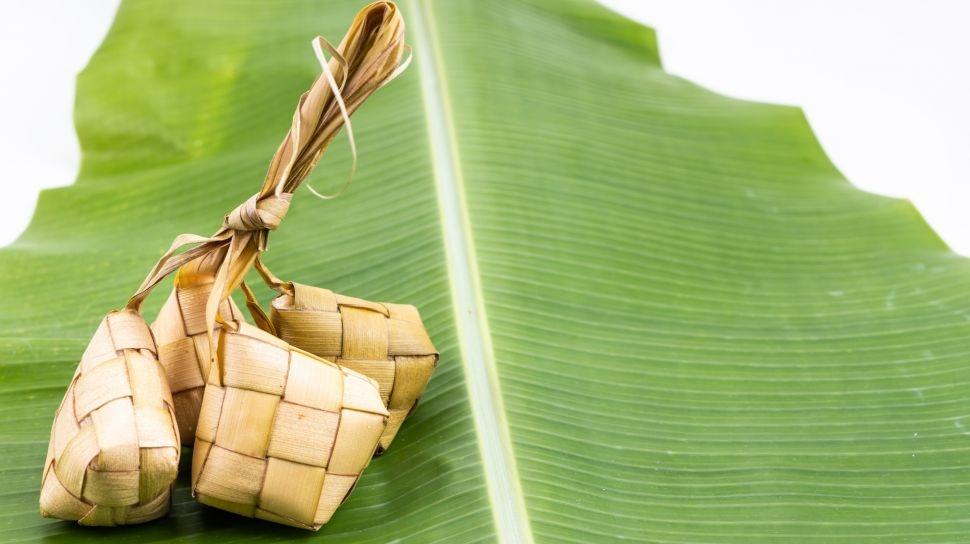ketupat: (191, 313, 390, 531), (41, 308, 180, 526)
